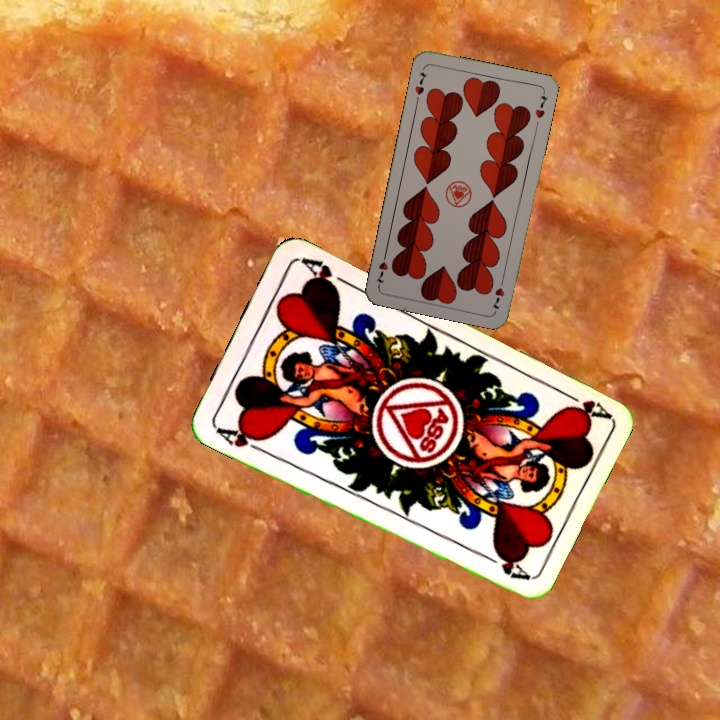H7: (488, 273, 507, 312), (411, 68, 430, 97)
HA: (556, 386, 611, 423), (211, 422, 267, 456)
